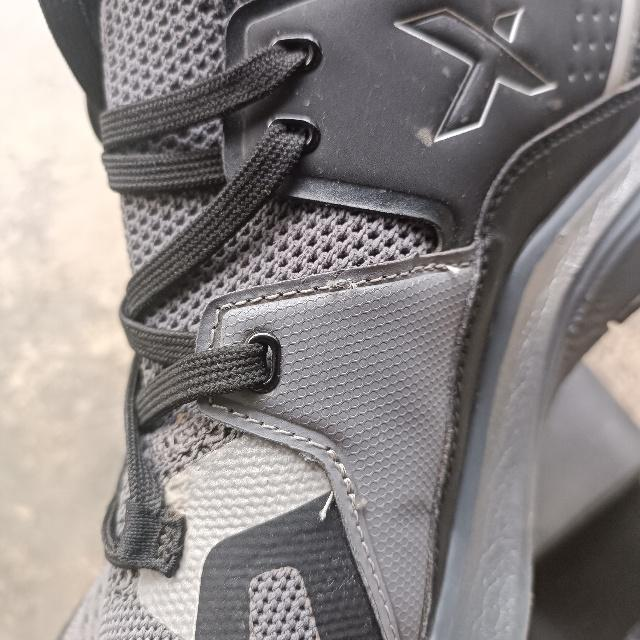broken-error: (319, 272, 385, 306)
